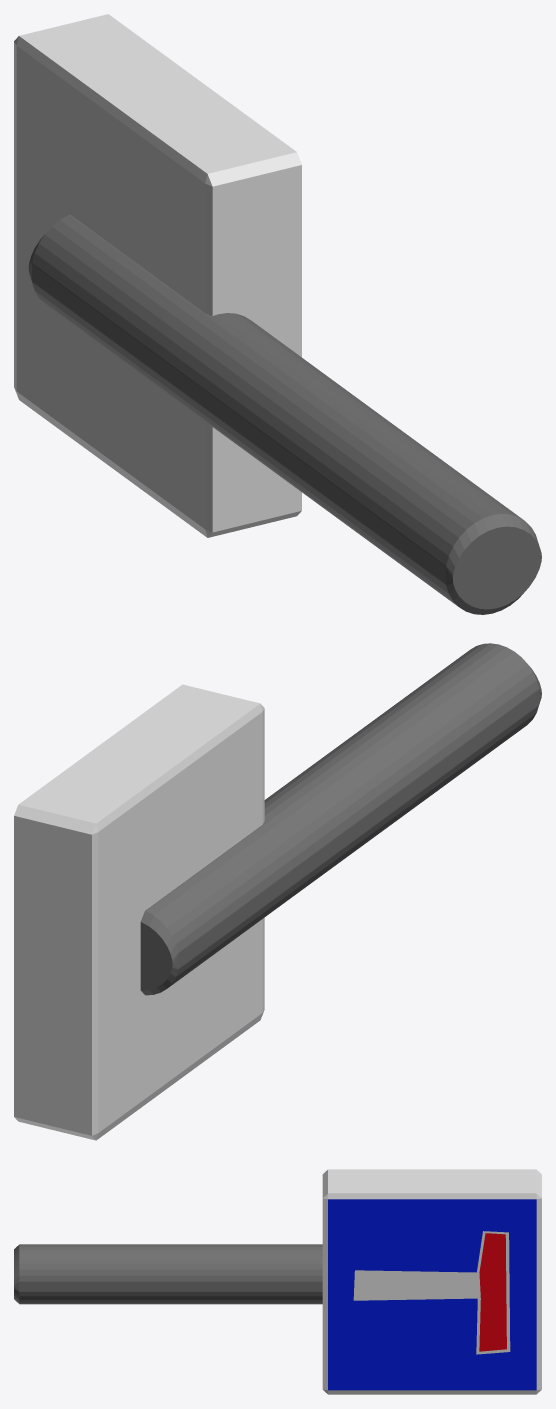
File: dead_end_sign.fbx
3 views of the same model, one above another, from view 1: azimuth 30°, elevation 25°; view 2: azimuth 150°, elevation 25°; view 3: azimuth 270°, elevation 25° (orthographic). The views are drawn at different scales.
Parts seen in each view (by area): view 1: dead_end; view 2: dead_end; view 3: dead_end.
Boxes of the visible parts, bbox=[...] form: dead_end: bbox=[14, 14, 541, 614]; dead_end: bbox=[14, 643, 541, 1140]; dead_end: bbox=[14, 1169, 541, 1394].
Bounding box in the file's own units: 2.82 × 7.39 × 17.57.
